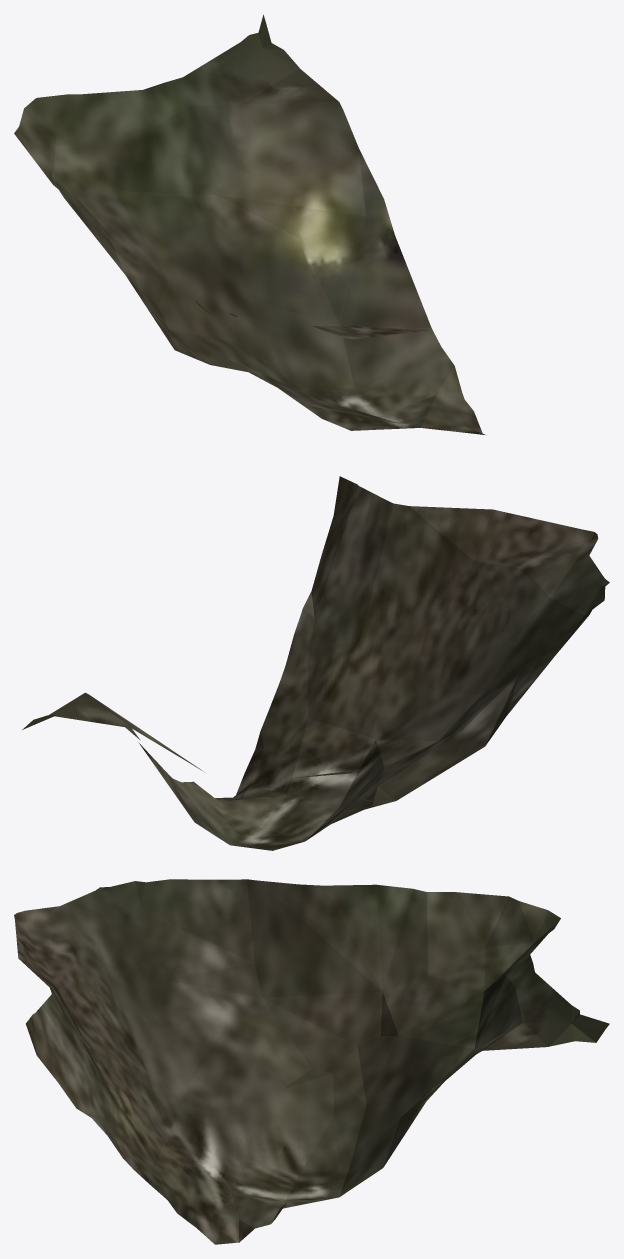
The picture shows the model from 3 angles, top to bottom: view 1: azimuth 30°, elevation 25°; view 2: azimuth 150°, elevation 25°; view 3: azimuth 270°, elevation 25°; orthographic projection. The views are drawn at different scales.
Bounding box in the file's own units: 1.12 × 0.7996 × 1.95.
1 material, 1 textured.
